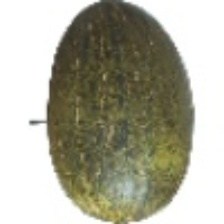honeydew: (30, 21, 197, 165)
